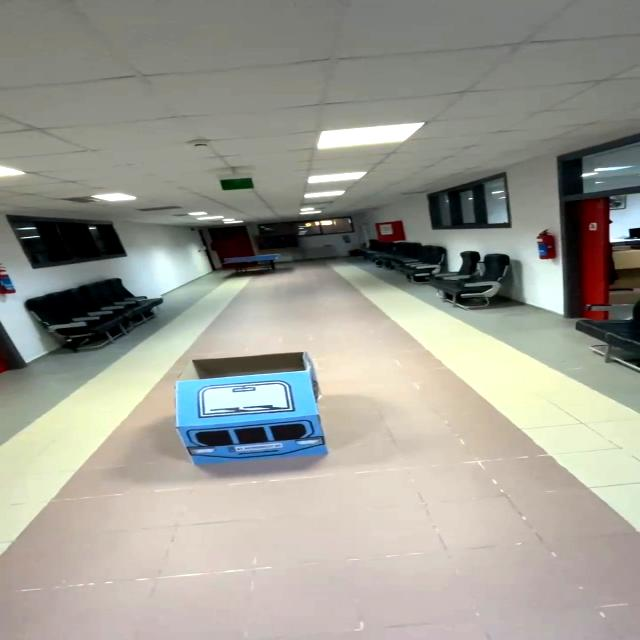blue_car: (139, 339, 377, 482)
